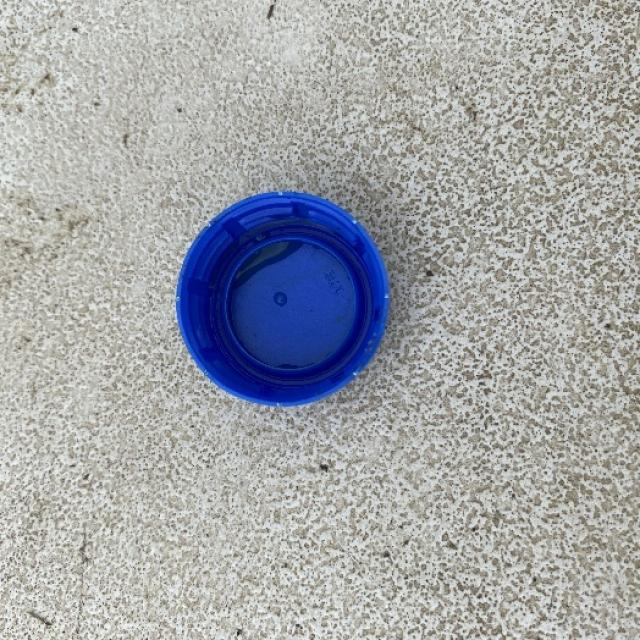plastic: (173, 189, 390, 407)
